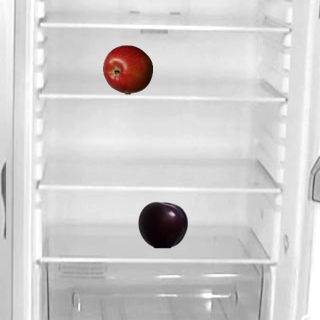Apple Braeburn: (102, 44, 152, 94)
Cherry Wax Black: (137, 199, 187, 249)
